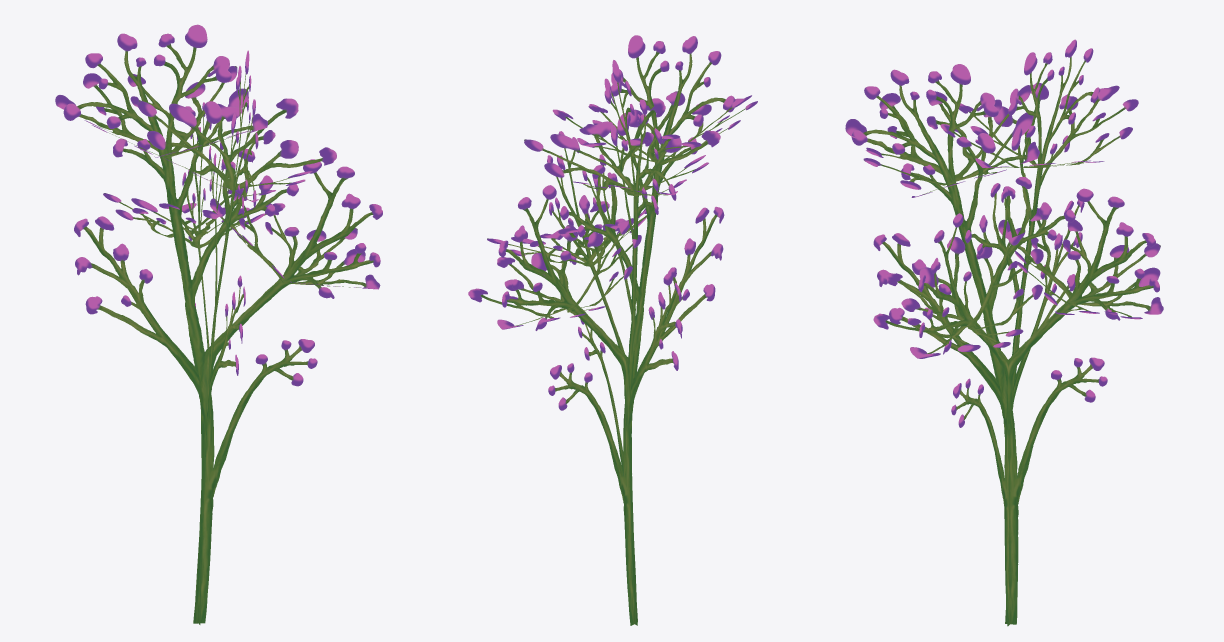
Rendered from MEADOW_SM_Flower_10_02.gltf.
3 views of the same model, side by side, from view 1: azimuth 30°, elevation 25°; view 2: azimuth 150°, elevation 25°; view 3: azimuth 270°, elevation 25° (orthographic). The views are drawn at different scales.
Visible parts, largest first — view 1: SM_Flower_10_02_LOD0; view 2: SM_Flower_10_02_LOD0; view 3: SM_Flower_10_02_LOD0.
Boxes of the visible parts, x1=… form: SM_Flower_10_02_LOD0: x1=55, y1=24, x2=382, y2=624; SM_Flower_10_02_LOD0: x1=468, y1=35, x2=757, y2=625; SM_Flower_10_02_LOD0: x1=845, y1=39, x2=1163, y2=626.
Bounding box in the file's own units: 0.4867 × 0.9481 × 0.5981.
1 material, 1 textured.
